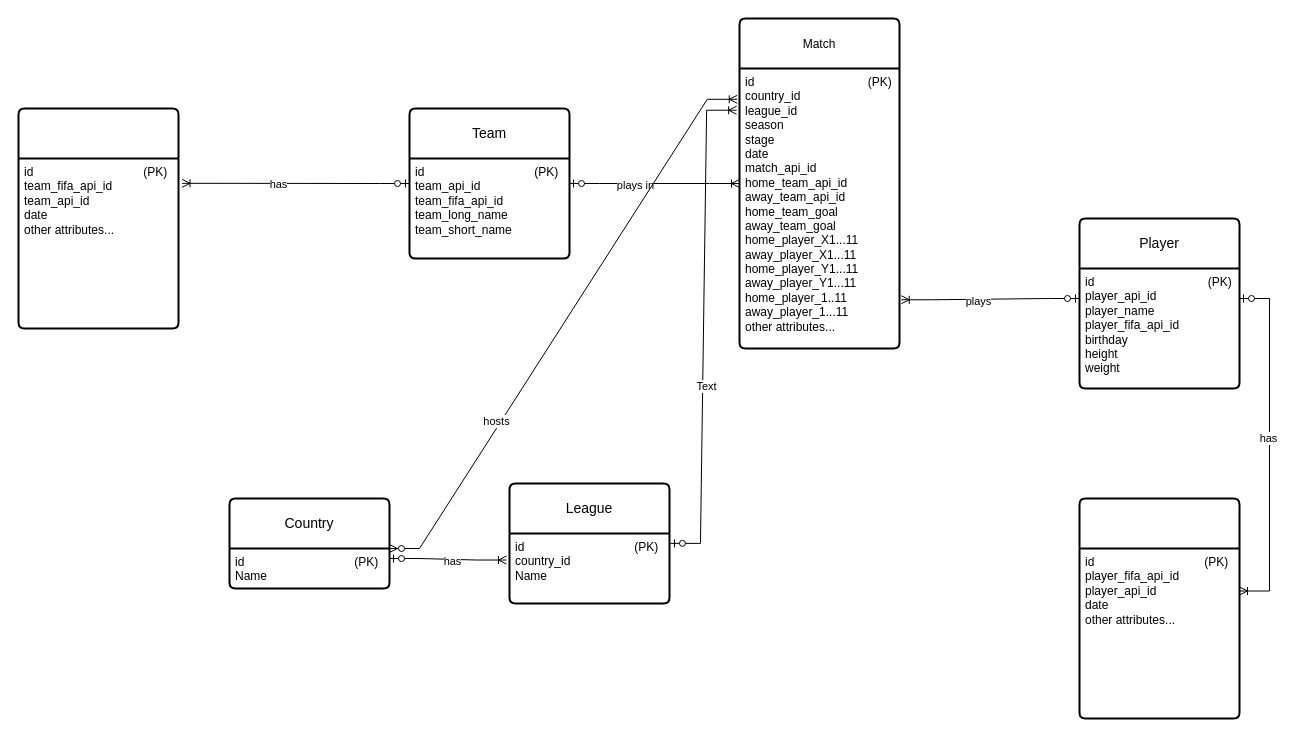
Image size: 1296x744. Some labels were removed from this diagram. Each missing label, with the box of its shape:
Player_Attributes: (1078, 497, 1240, 719)
Team_Attributes: (17, 107, 179, 329)
